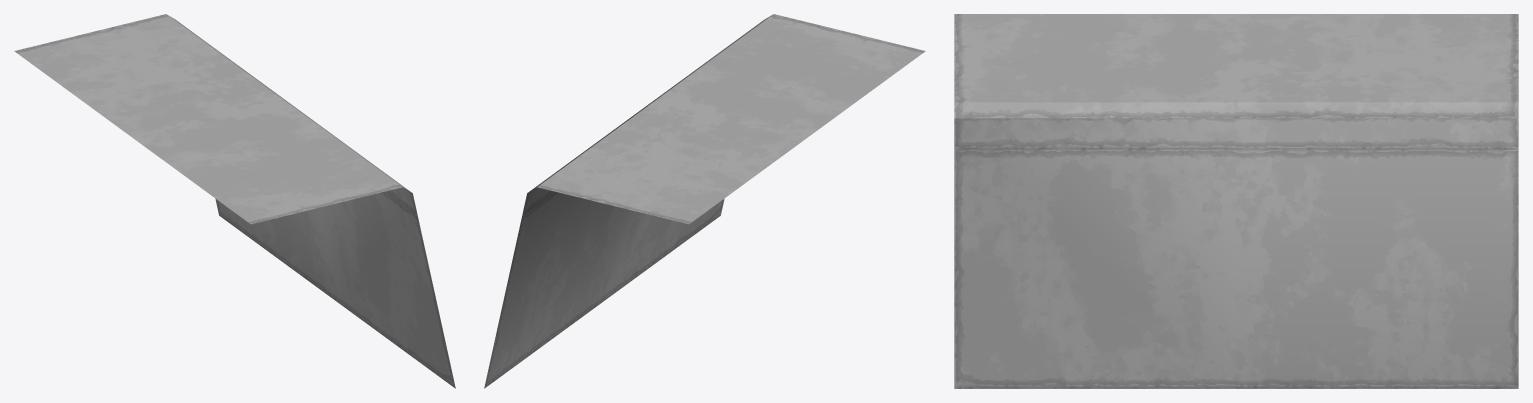
File: SM_ENV_PORT_WALKWAY_01.fbx
3 views of the same model, side by side, from view 1: azimuth 30°, elevation 25°; view 2: azimuth 150°, elevation 25°; view 3: azimuth 270°, elevation 25° (orthographic). The views are drawn at different scales.
Parts seen in each view (by area): view 1: SM_ENV_PORT_WALKWAY_01; view 2: SM_ENV_PORT_WALKWAY_01; view 3: SM_ENV_PORT_WALKWAY_01.
Boxes of the visible parts, <box> form: SM_ENV_PORT_WALKWAY_01: <box>14,14,455,388</box>; SM_ENV_PORT_WALKWAY_01: <box>484,14,925,388</box>; SM_ENV_PORT_WALKWAY_01: <box>954,14,1518,388</box>.
Bounding box in the file's own units: 2.5 × 2.5 × 5.
